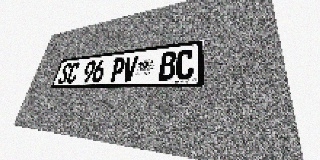6: (91, 59, 107, 83)
9: (81, 60, 97, 83)
B: (158, 51, 177, 81)
C: (175, 49, 194, 80), (65, 62, 81, 84)
P: (109, 57, 126, 82)
S: (57, 63, 72, 84)
V: (121, 55, 139, 82)
